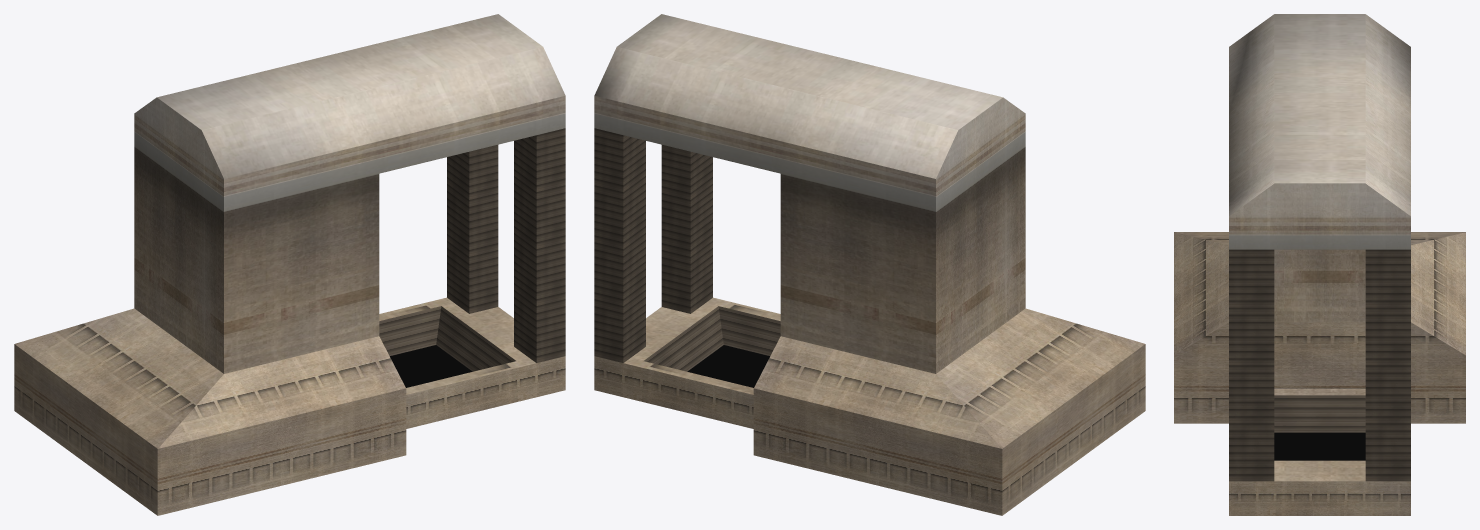
Rendered from Dsrt05.fbx.
3 views of the same model, side by side, from view 1: azimuth 30°, elevation 25°; view 2: azimuth 150°, elevation 25°; view 3: azimuth 270°, elevation 25° (orthographic).
Visible parts, largest first — view 1: Dsrt05; view 2: Dsrt05; view 3: Dsrt05.
Part boxes in pixels (left/top/right/bottom): Dsrt05: left=14, top=14, right=565, bottom=515; Dsrt05: left=594, top=14, right=1145, bottom=515; Dsrt05: left=1174, top=14, right=1465, bottom=515.
Size of the model in its own units: 224 by 161 by 128.
